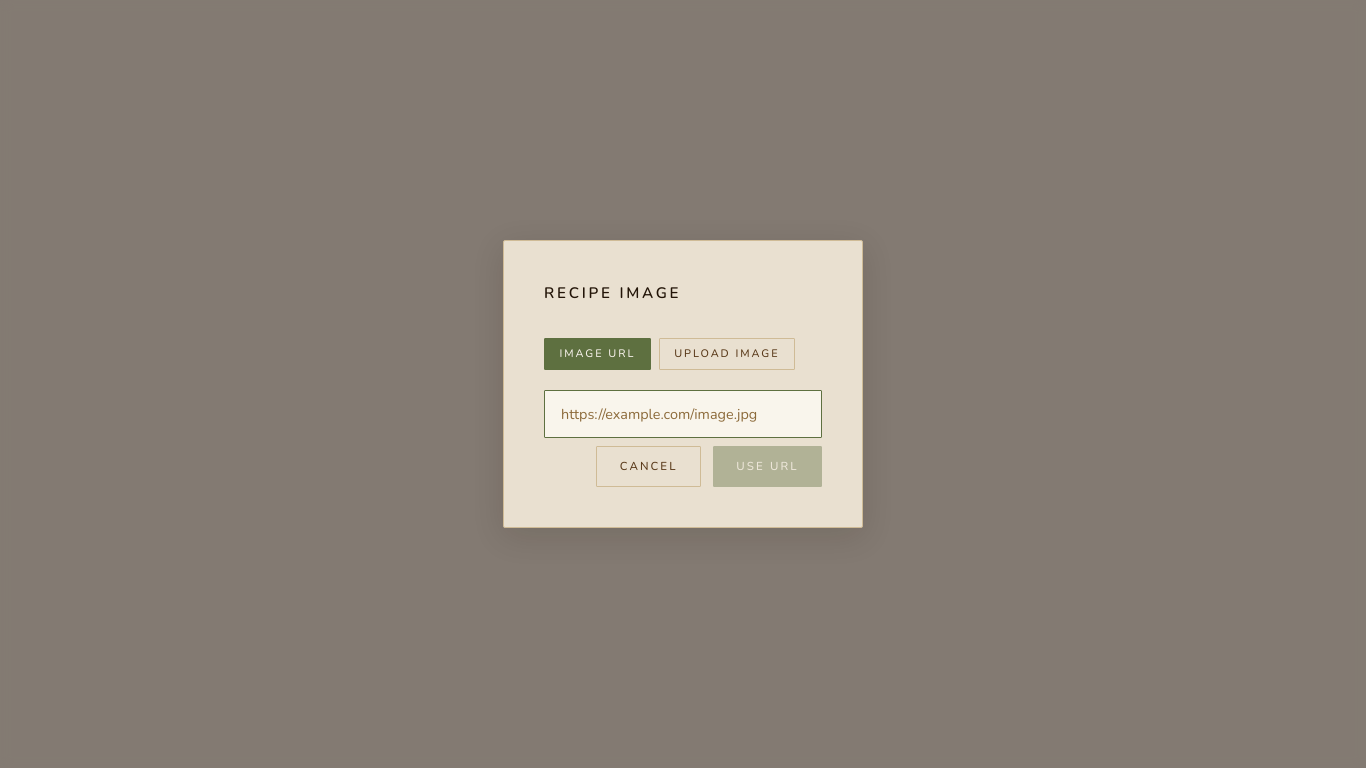
ImagePickerDialog › switches back to URL input when Image URL tab is clicked
Click the button "Upload Image" at (727, 354), box [659, 338, 795, 370]
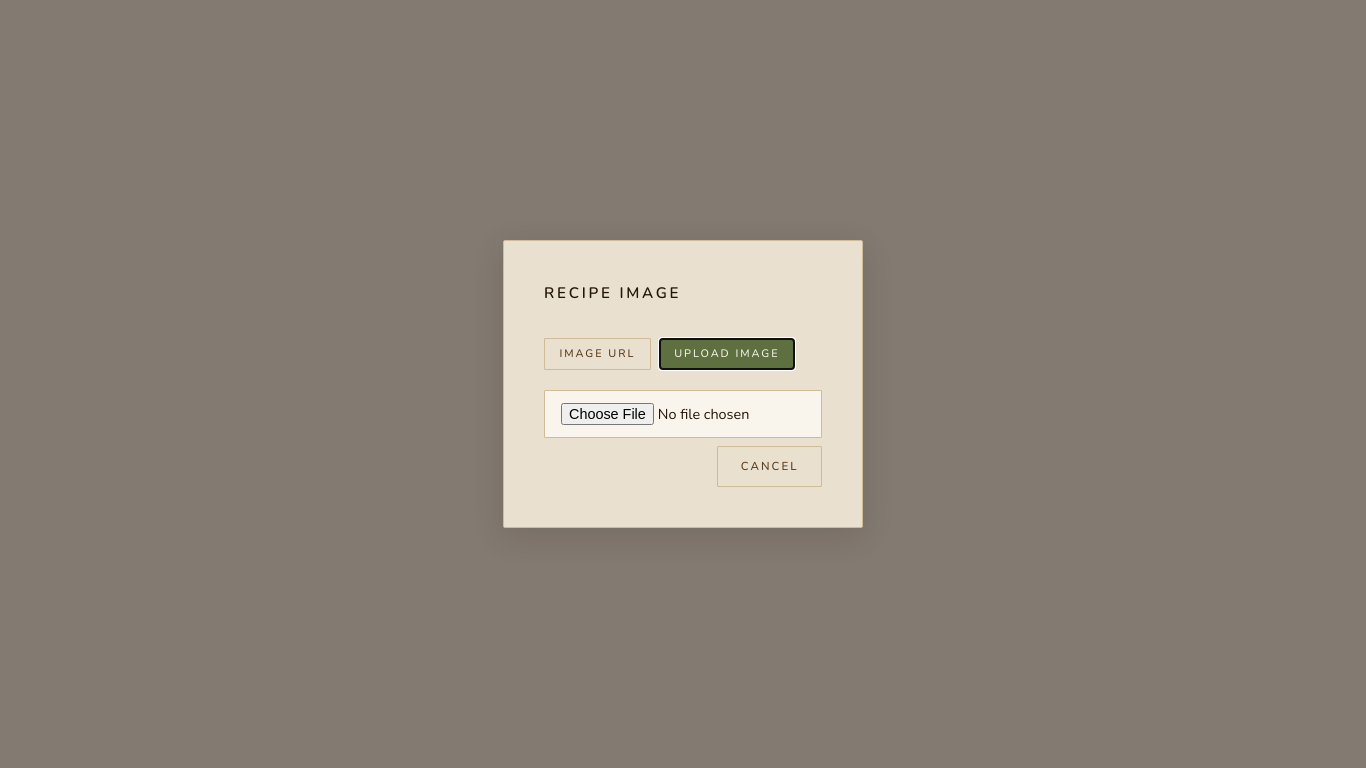
Click the button "Image URL" at (597, 354), box [544, 338, 651, 370]
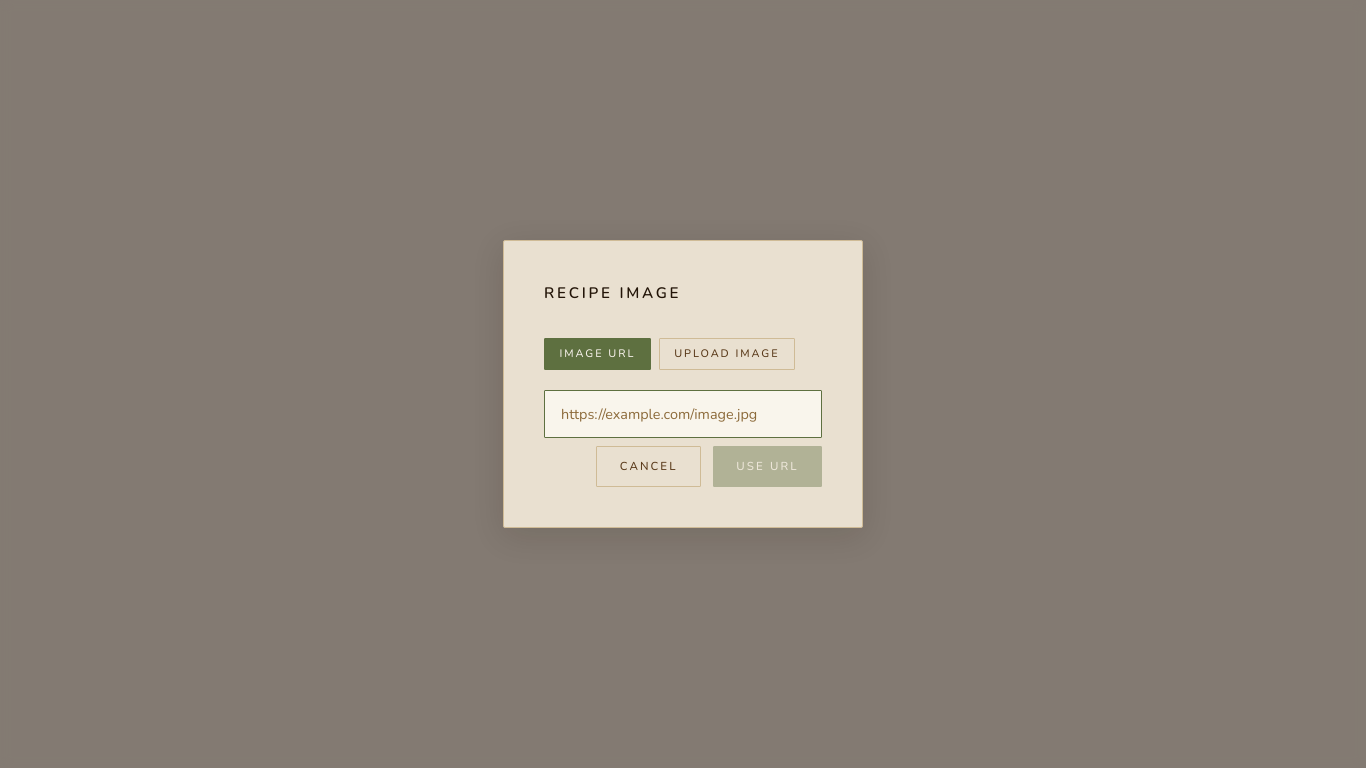
Expected: the field with placeholder "https://example.com/image.jpg" is shown, [544, 390, 822, 438]
